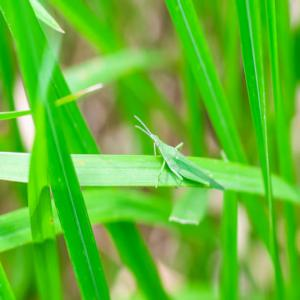locust: (132, 103, 235, 192)
